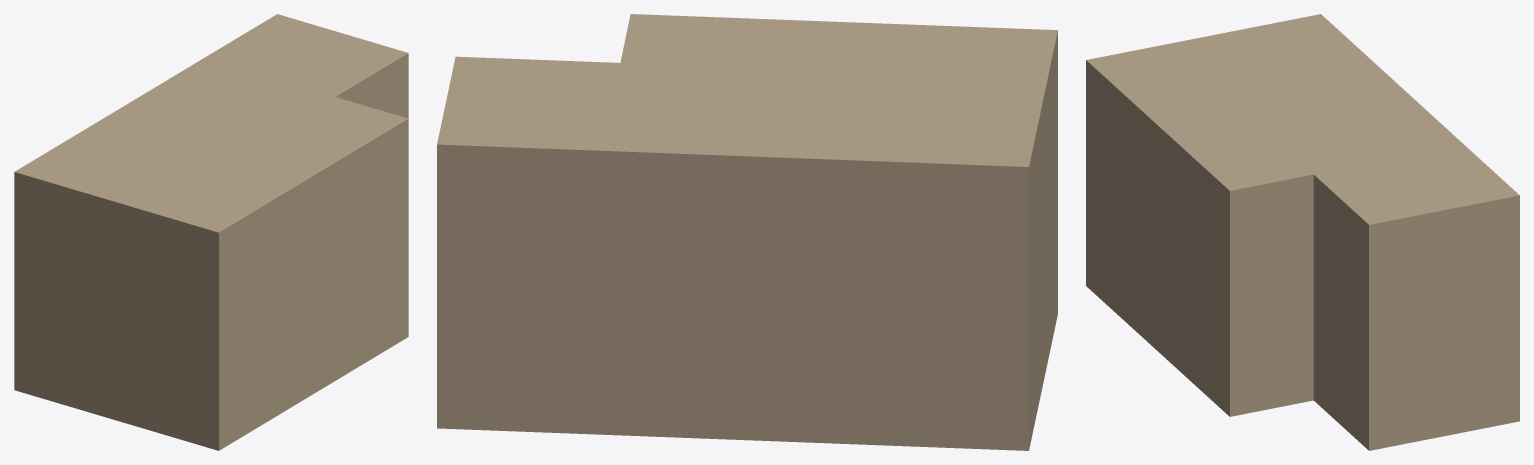
The model's file is bld_101524443.dae.
3 renders of one model, left to right at view 1: azimuth 30°, elevation 25°; view 2: azimuth 150°, elevation 25°; view 3: azimuth 270°, elevation 25°, orthographic. The views are drawn at different scales.
Visible parts, largest first — view 1: bld_101524443; view 2: bld_101524443; view 3: bld_101524443.
Boxes of the visible parts, <box> form: bld_101524443: <box>14,14,408,450</box>; bld_101524443: <box>437,14,1057,450</box>; bld_101524443: <box>1086,14,1519,450</box>.
Size of the model in its own units: 16.02 by 13.92 by 8.
